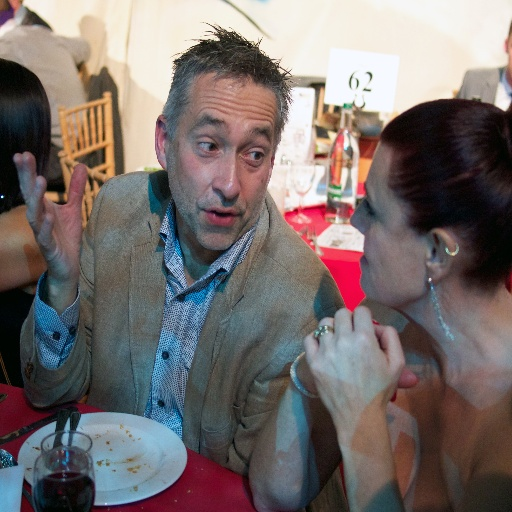hand: (12, 149, 89, 284), (294, 350, 419, 401)
